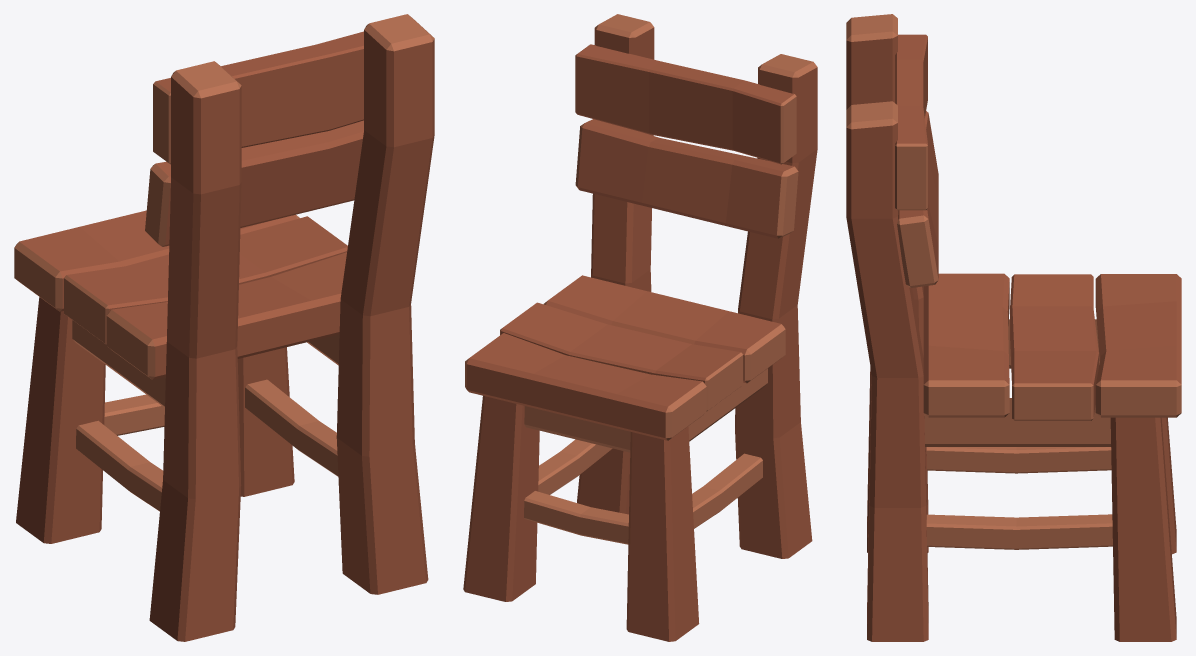
The model's file is Chair.fbx.
3 views of the same model, side by side, from view 1: azimuth 30°, elevation 25°; view 2: azimuth 150°, elevation 25°; view 3: azimuth 270°, elevation 25° (orthographic). The views are drawn at different scales.
Parts seen in each view (by area): view 1: Chair; view 2: Chair; view 3: Chair.
Boxes of the visible parts, x1,y1,x2,y2 form: Chair: [14, 14, 434, 641]; Chair: [463, 14, 817, 641]; Chair: [846, 14, 1181, 641].
Size of the model in its own units: 0.52 by 0.65 by 1.11.
